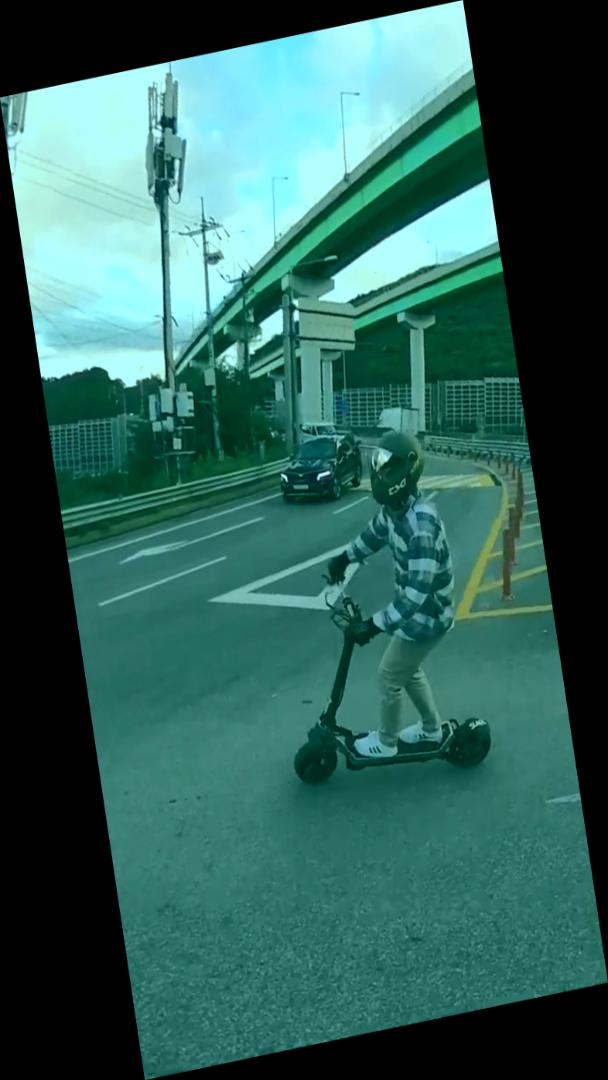helmet: (246, 414, 503, 808)
